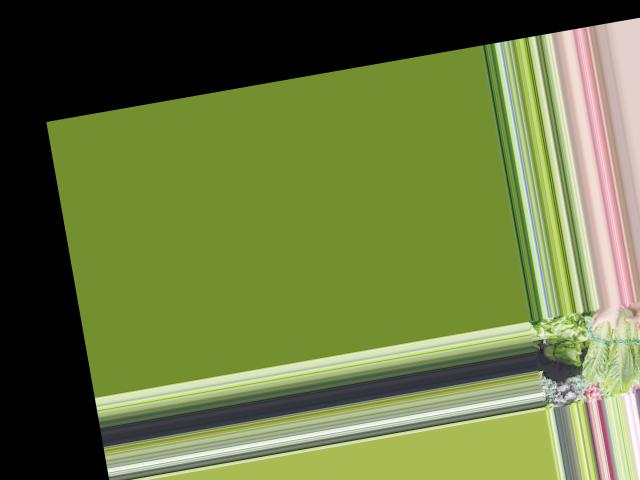lettuce: (570, 300, 640, 396)
